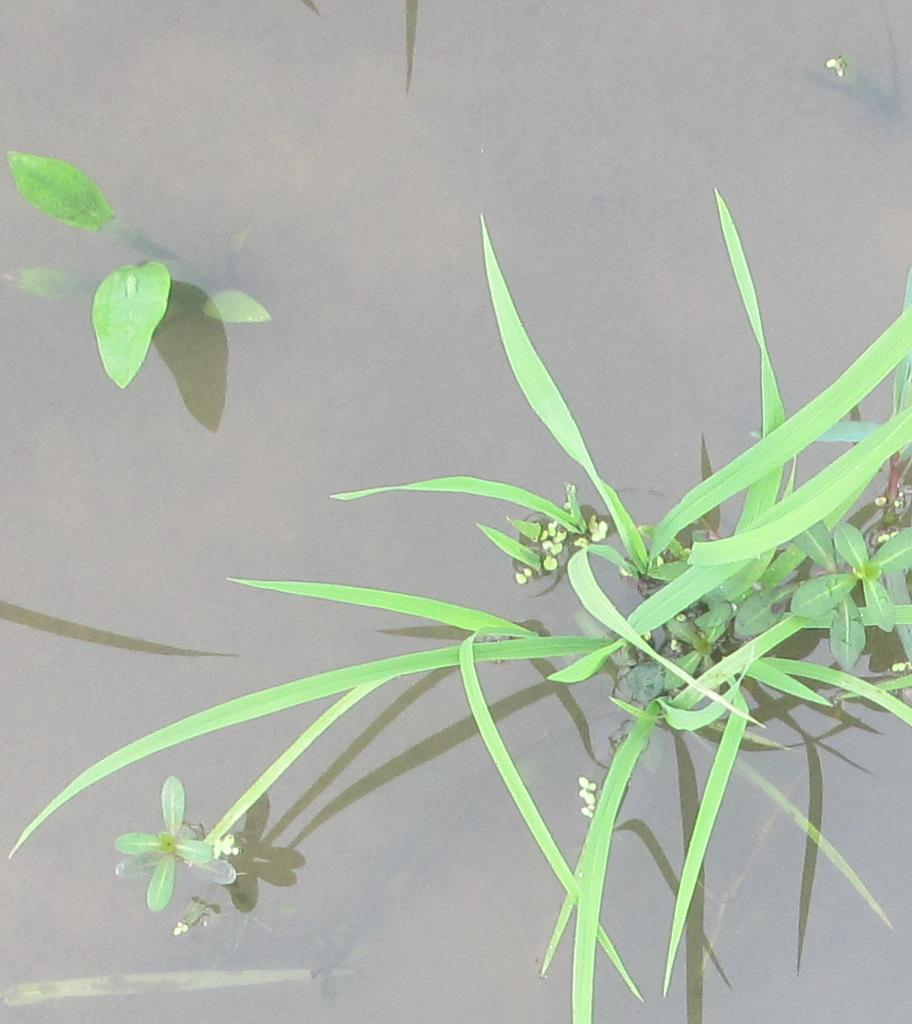Weed: (14, 152, 277, 388), (728, 532, 907, 638)
